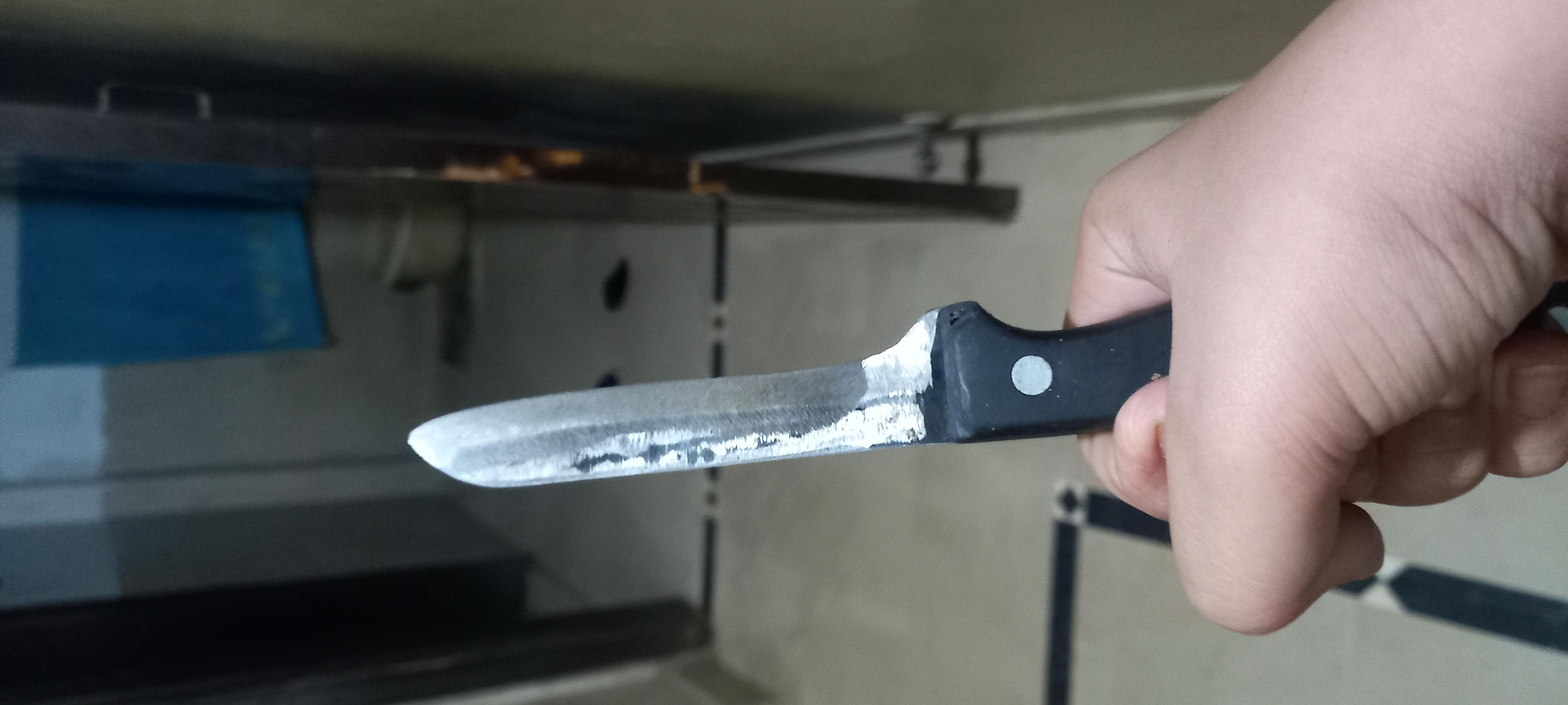knives: (390, 180, 974, 574)
